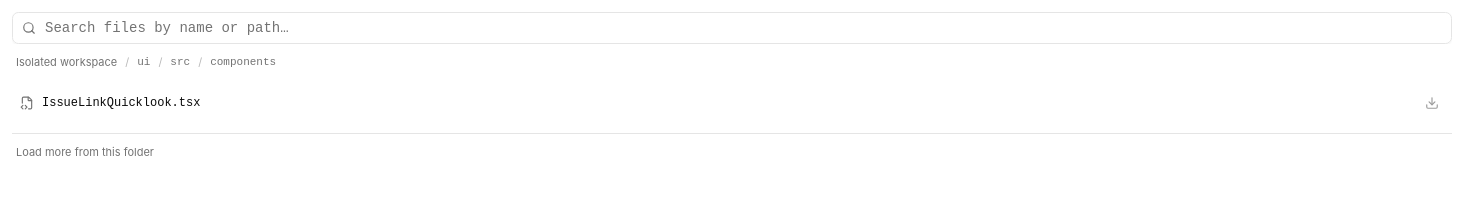
it: WorkspaceFileBrowser › renders newly loaded current-folder rows after Load more
Expected: the text "SourceTrustBadge.tsx" is not shown
Step 1. Click the button "Load more from this folder" → (85, 152), box [12, 142, 158, 162]
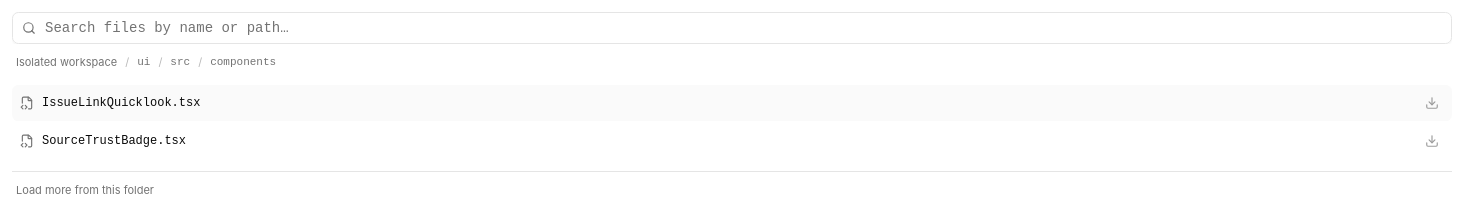
Now the text "SourceTrustBadge.tsx" is shown, box [42, 134, 186, 148]
